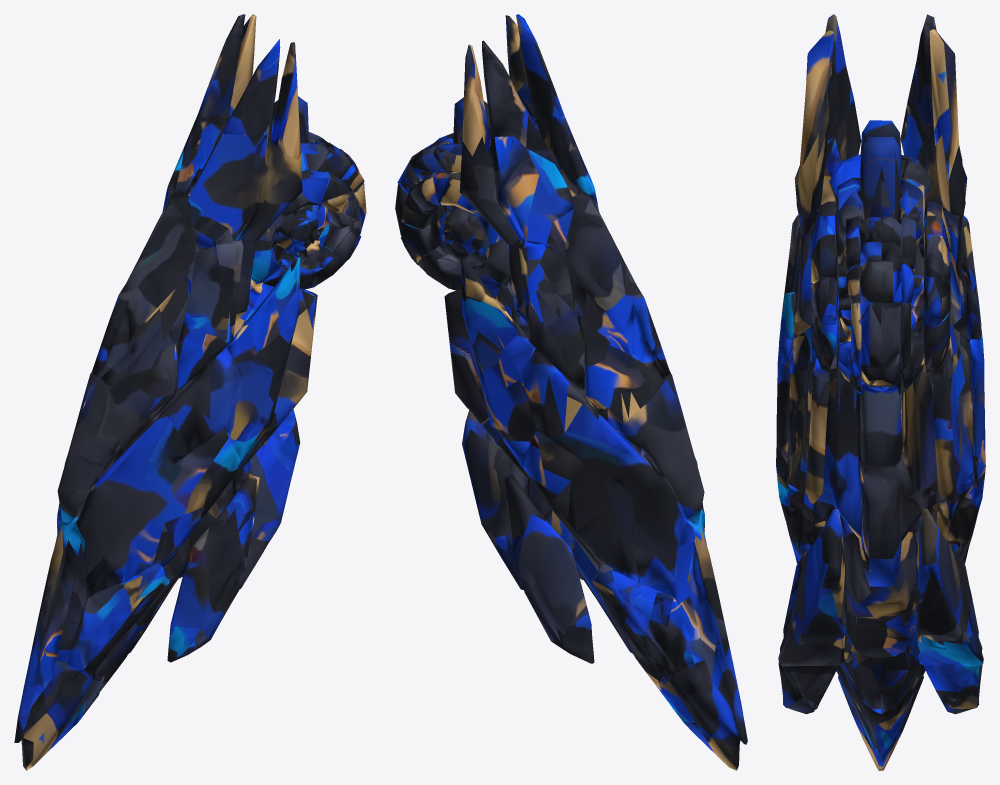
The model's file is DefenseBackLeft.gltf.
3 views of the same model, side by side, from view 1: azimuth 30°, elevation 25°; view 2: azimuth 150°, elevation 25°; view 3: azimuth 270°, elevation 25° (orthographic). The views are drawn at different scales.
Parts seen in each view (by area): view 1: DefenseBackLeft; view 2: DefenseBackLeft; view 3: DefenseBackLeft.
Boxes of the visible parts, x1,y1,x2,y2 form: DefenseBackLeft: (14,14,366,770); DefenseBackLeft: (395,14,747,770); DefenseBackLeft: (776,14,985,770).
Size of the model in its own units: 0.2579 by 0.4924 by 0.103.
Materials: 1 (1 with a texture image).
